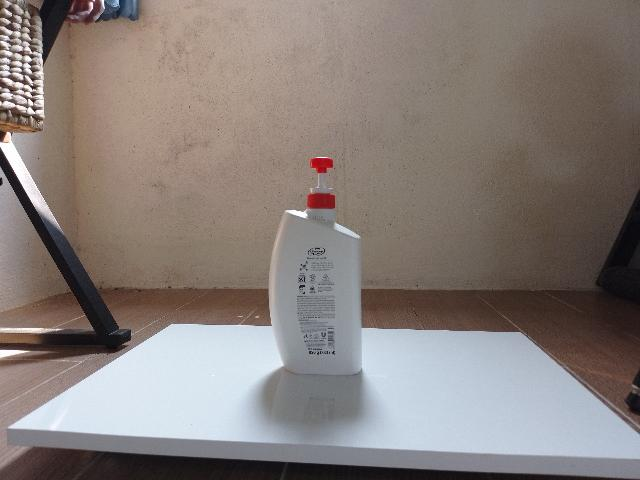life-buoy: (268, 157, 362, 376)
